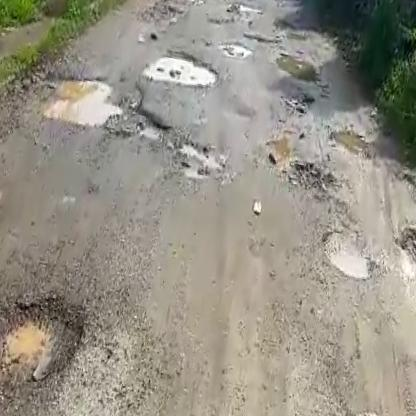pothole: (0, 287, 96, 406), (35, 66, 156, 138), (316, 224, 384, 284), (141, 43, 224, 91), (166, 138, 228, 189), (219, 38, 255, 59)
